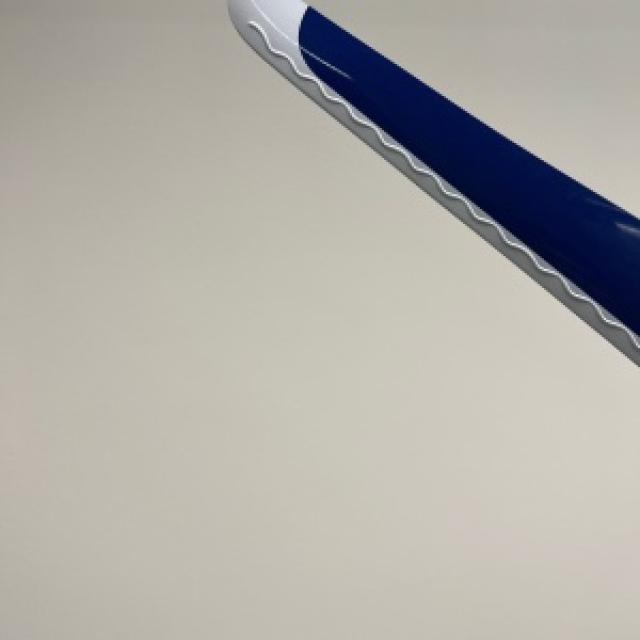healthy: (228, 0, 638, 356)
